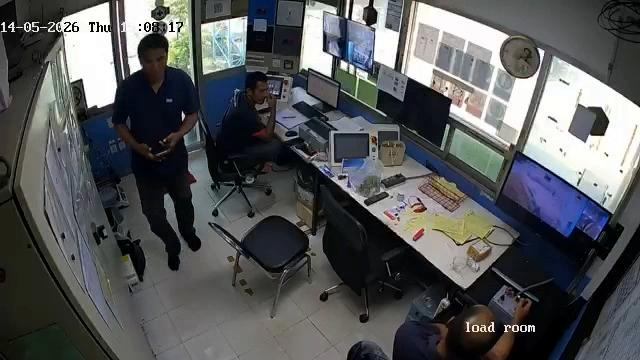Head: (442, 304, 501, 351), (136, 33, 173, 75), (244, 72, 269, 104)
People: (111, 32, 202, 273), (397, 294, 533, 360), (221, 70, 282, 181)
Phone: (150, 140, 171, 156), (257, 106, 270, 115)
